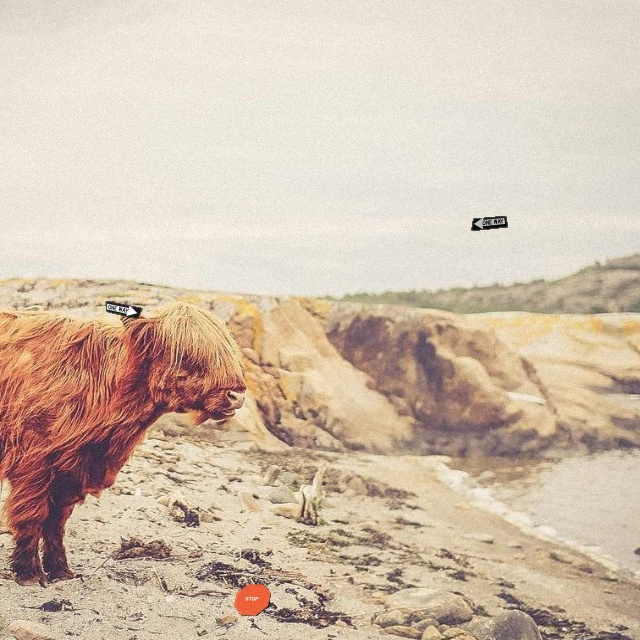ONE_WAY_ left: (470, 215, 508, 231)
ONE_WAY_ right: (105, 300, 143, 319)
STOP: (233, 583, 271, 616)
